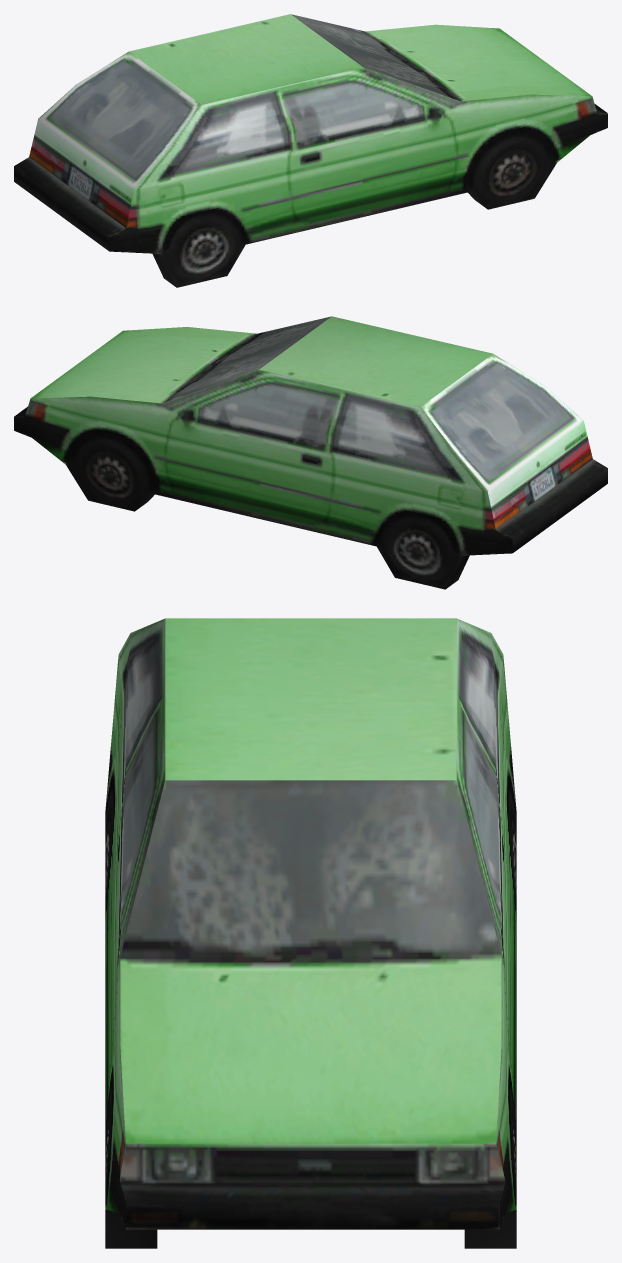
Rendered from Shared - Ground Vehicles - CV Cmp Car GR - CVCmpCarGR.glb.
The picture shows the model from 3 angles, top to bottom: view 1: azimuth 30°, elevation 25°; view 2: azimuth 150°, elevation 25°; view 3: azimuth 270°, elevation 25°; orthographic projection. The views are drawn at different scales.
Parts seen in each view (by area): view 1: CVCMPCARGR; view 2: CVCMPCARGR; view 3: CVCMPCARGR.
Part boxes in pixels (x1,y1,x2,y2): CVCMPCARGR: (14,14,607,287); CVCMPCARGR: (14,316,607,589); CVCMPCARGR: (105,618,516,1248).
Size of the model in its own units: 20.57 by 6.39 by 7.34.
1 material, 1 textured.
